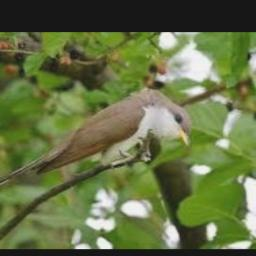Cuckoo: (0, 88, 189, 192)
